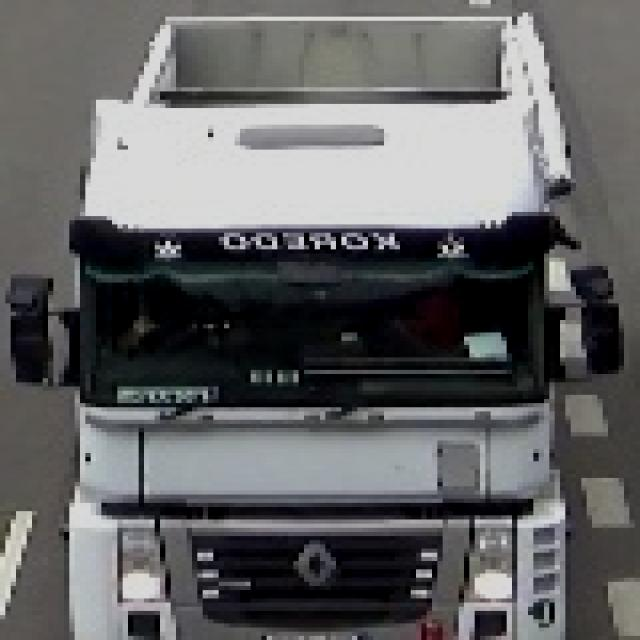TRUCK: (48, 17, 571, 636)
